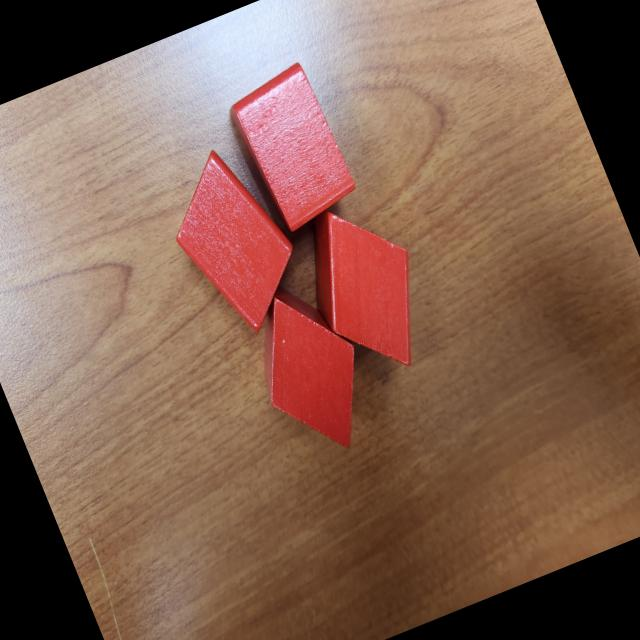red: (150, 135, 317, 343), (284, 185, 446, 388), (233, 270, 388, 467), (219, 60, 365, 242)
